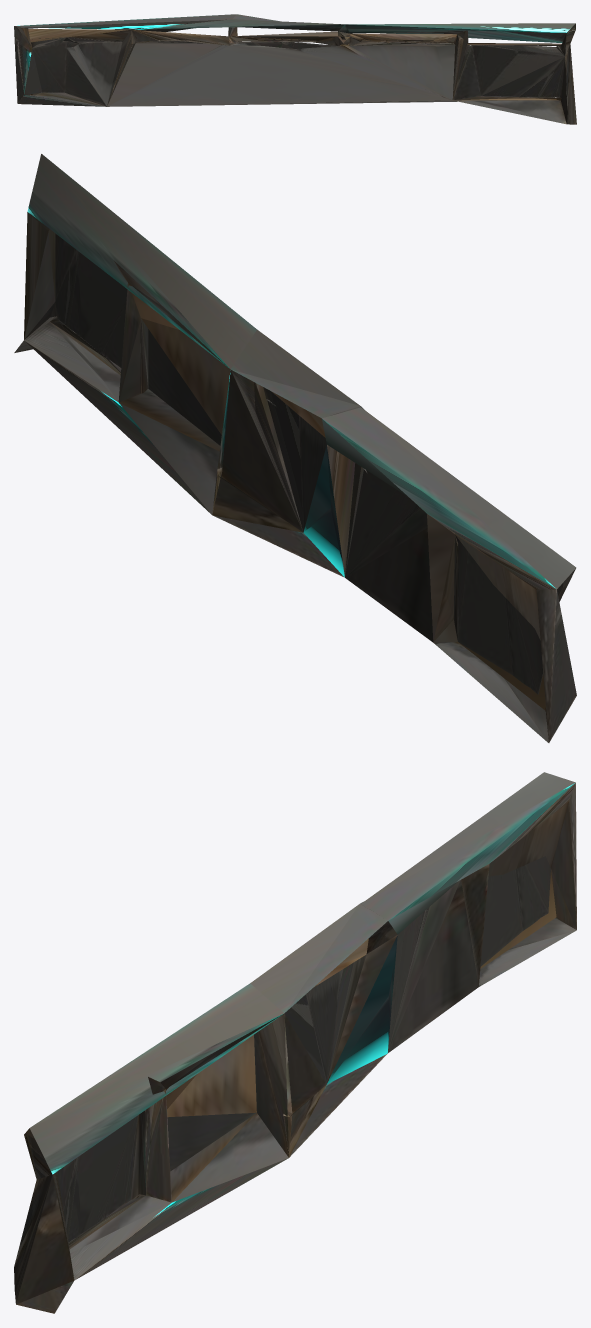
3 views of the same model, one above another, from view 1: azimuth 30°, elevation 25°; view 2: azimuth 150°, elevation 25°; view 3: azimuth 270°, elevation 25° (orthographic). The views are drawn at different scales.
Parts seen in each view (by area): view 1: s07; view 2: s07; view 3: s07.
Boxes of the visible parts, x1,y1,x2,y2 form: s07: (14, 14, 576, 124); s07: (14, 154, 576, 742); s07: (14, 772, 576, 1313).
Bounding box in the file's own units: 6.27 × 1.4 × 3.99.
1 material, 1 textured.
